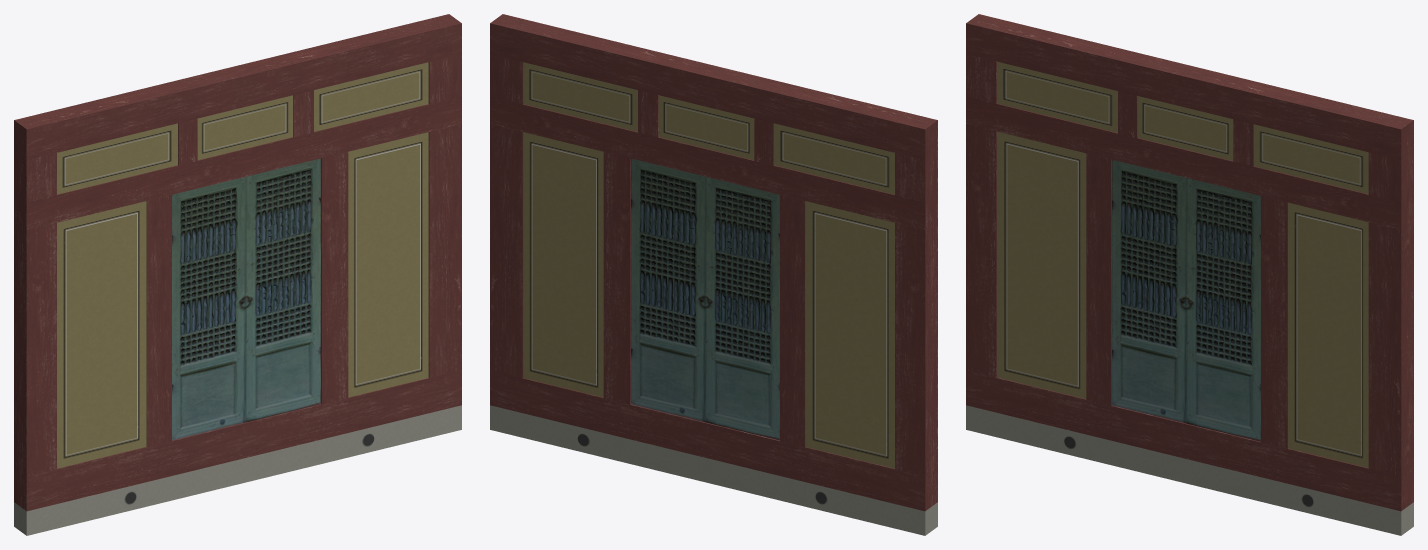
File: SM_Sun_Dae_Wall_F.fbx
3 renders of one model, left to right at view 1: azimuth 30°, elevation 25°; view 2: azimuth 150°, elevation 25°; view 3: azimuth 330°, elevation 25°, orthographic.
Visible parts, largest first — view 1: SM_Sun_Dae_Wall_F; view 2: SM_Sun_Dae_Wall_F; view 3: SM_Sun_Dae_Wall_F.
Part boxes in pixels (x1,y1,x2,y2): SM_Sun_Dae_Wall_F: [14, 14, 461, 535]; SM_Sun_Dae_Wall_F: [490, 14, 937, 535]; SM_Sun_Dae_Wall_F: [966, 14, 1413, 535].
Bounding box in the file's own units: 396 × 354 × 20.
